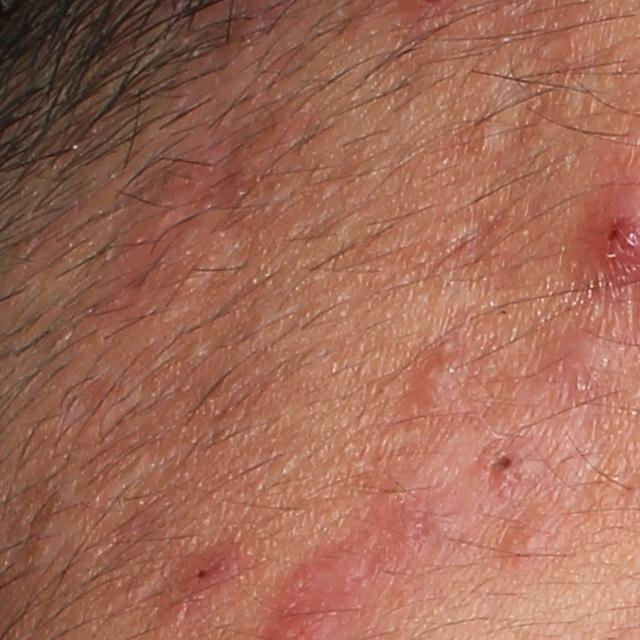comedo: (184, 340, 208, 368)
papule: (403, 329, 476, 420), (466, 431, 547, 490), (171, 537, 242, 598), (553, 328, 617, 385), (274, 556, 334, 612)
